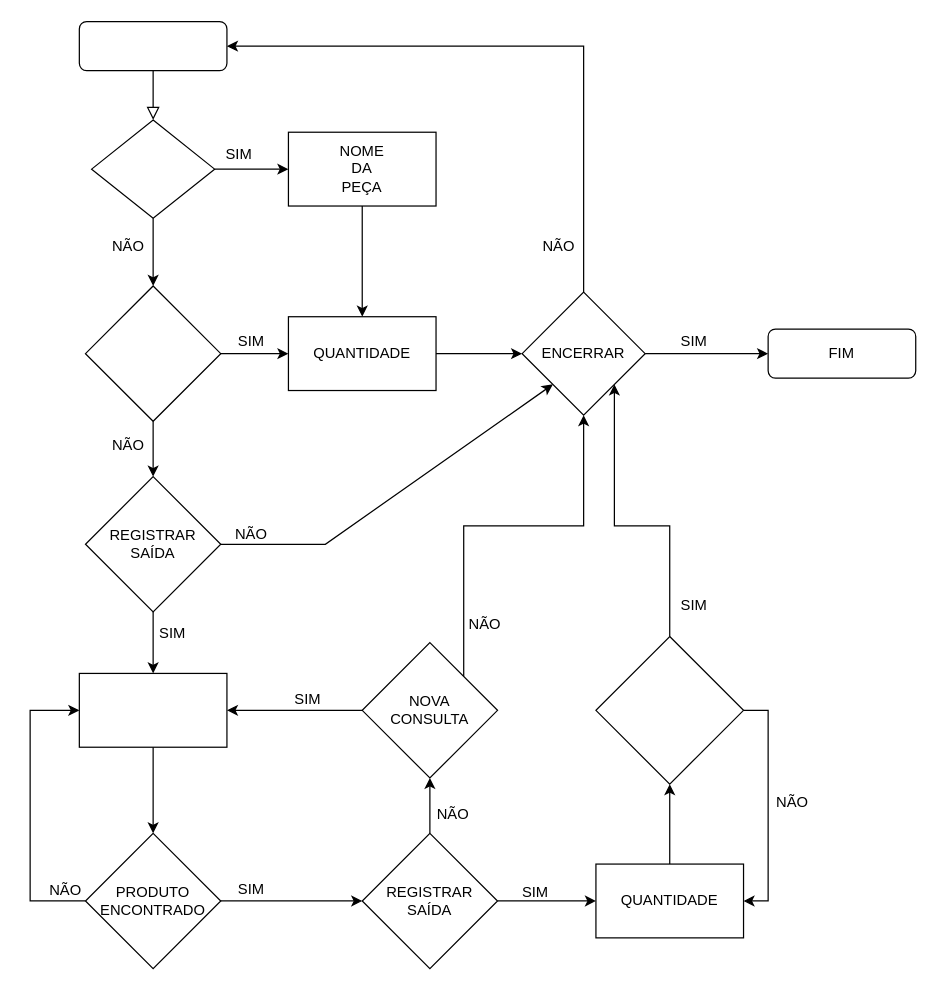
The diagram is 937 pixels wide and 990 high, and some of its shapes have lost their labels. Each missing label, with the centre of its shape:
ATUALIZAR QUANTIDADE: [152,353]
CONFIRMA SAÍDA: [669,709]
CONSULTAR PRODUTO: [152,709]
INÍCIO: [152,45]
NOVA PEÇA: [152,168]
